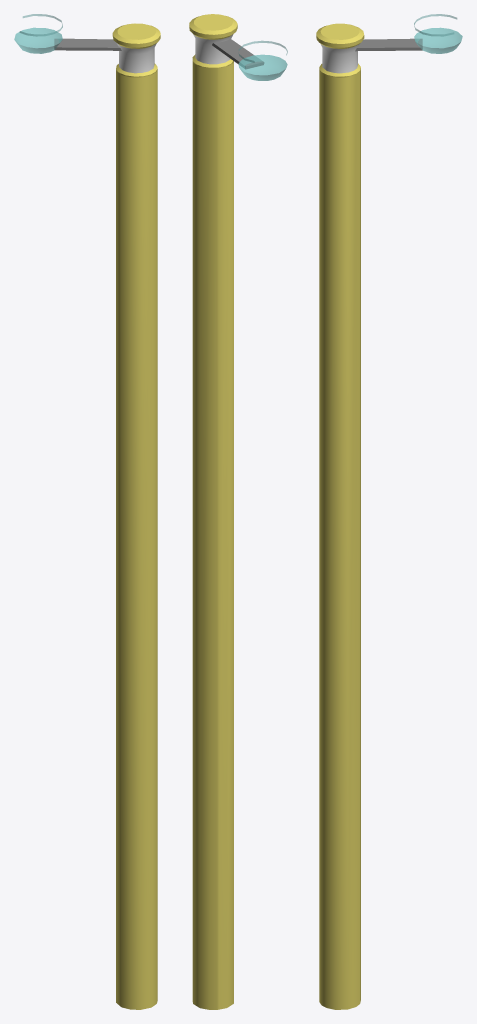
File: letruc.glb
The picture shows the model from 3 angles, left to right: view 1: azimuth 90°, elevation 25°; view 2: azimuth 210°, elevation 25°; view 3: azimuth 270°, elevation 25°; orthographic projection.
Parts seen in each view (by area): view 1: Sphere; view 2: Sphere; view 3: Sphere.
Part boxes in pixels (x1,y1,x2,y2): Sphere: [14, 14, 160, 1009]; Sphere: [189, 14, 287, 1009]; Sphere: [316, 14, 462, 1009].
Bounding box in the file's own units: 2.55 × 56.83 × 7.73.
